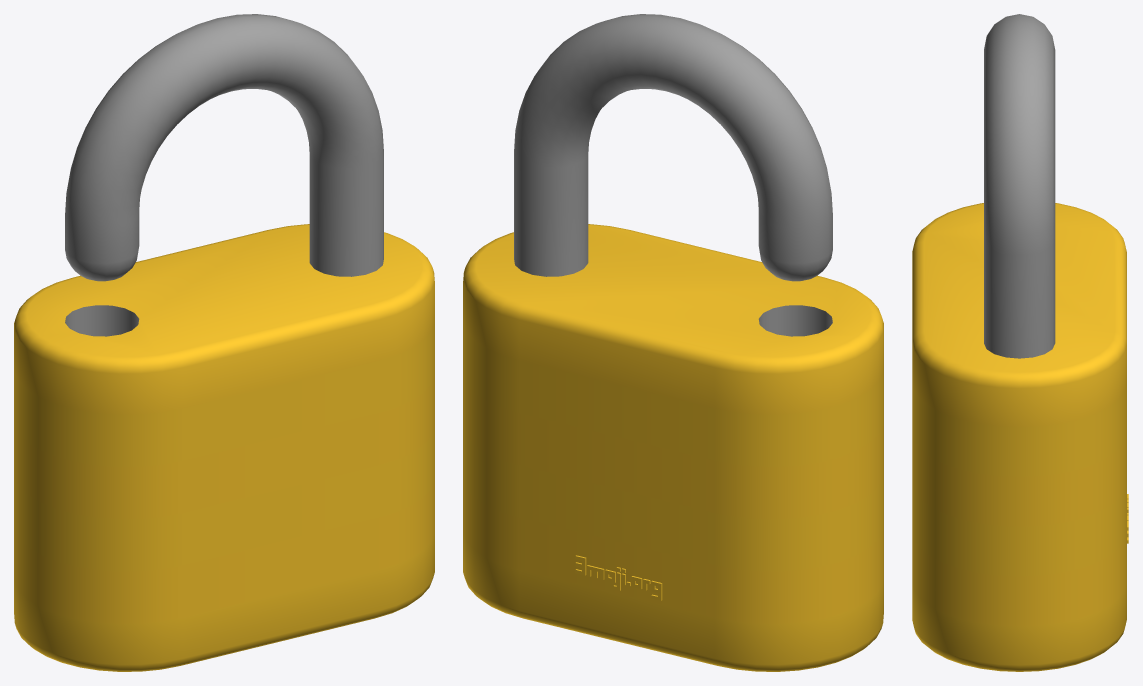
Rendered from unlocked.fbx.
The picture shows the model from 3 angles, left to right: view 1: azimuth 30°, elevation 25°; view 2: azimuth 150°, elevation 25°; view 3: azimuth 270°, elevation 25°; orthographic projection. The views are drawn at different scales.
Parts seen in each view (by area): view 1: Circle.2578; view 2: Circle.2578; view 3: Circle.2578.
Part boxes in pixels (x1=…): Circle.2578: x1=14, y1=14, x2=434, y2=671; Circle.2578: x1=463, y1=14, x2=883, y2=671; Circle.2578: x1=912, y1=14, x2=1128, y2=671.
Size of the model in its own units: 160 by 232 by 80.68.
1 material, 1 textured.
